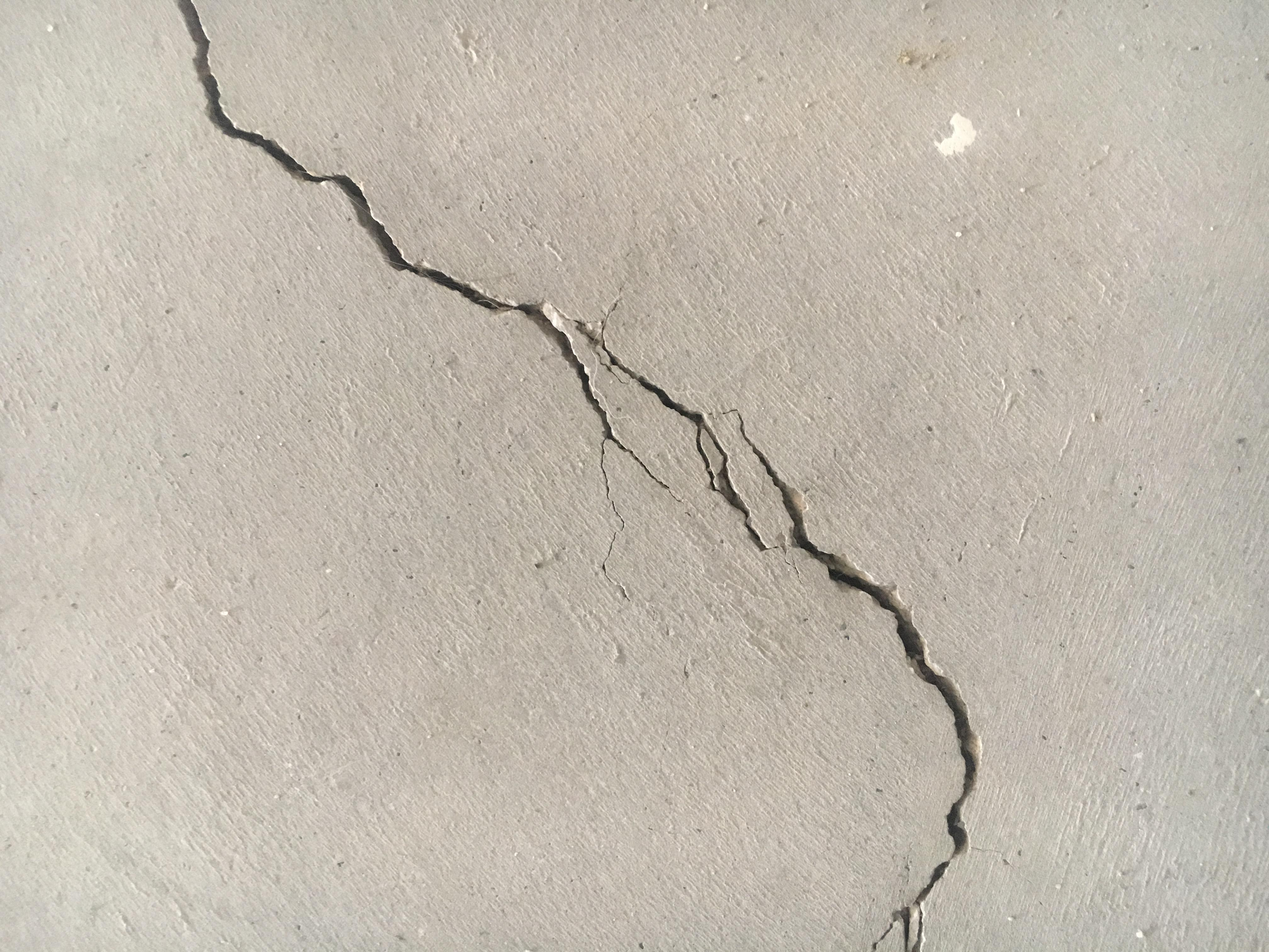Diagonal Crack: (174, 2, 986, 947)
